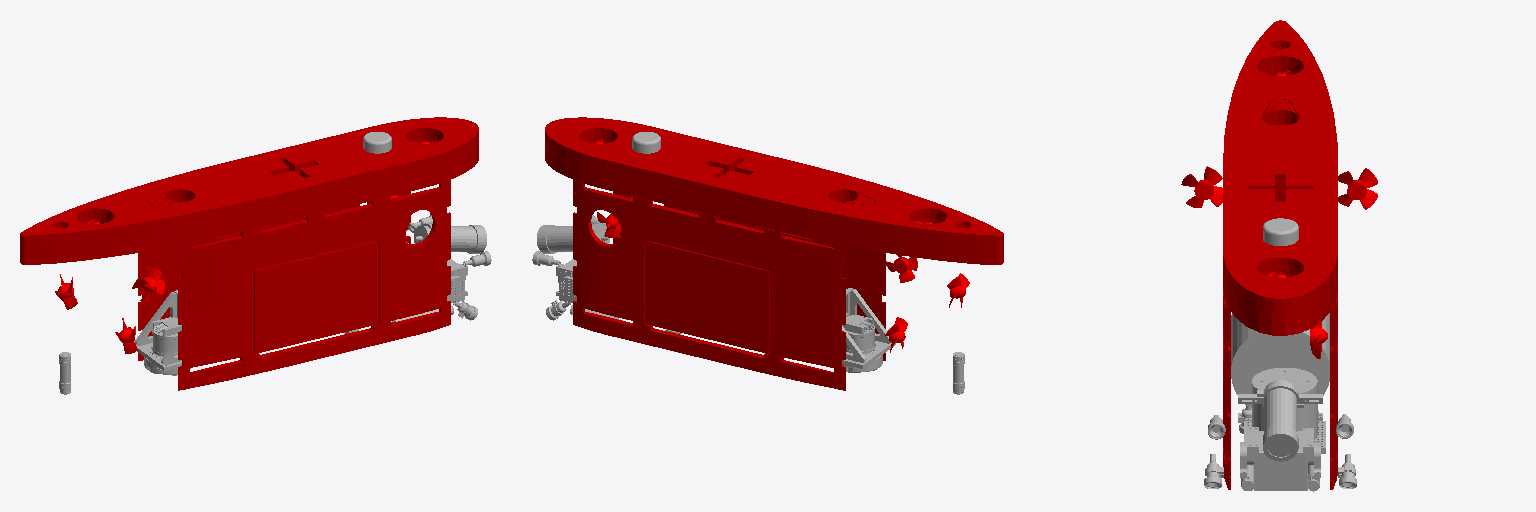
--- Facts derived from the render (not from the file) ---
3 views of the same robot in one strip: view 1: azimuth 30°, elevation 25°; view 2: azimuth 150°, elevation 25°; view 3: azimuth 270°, elevation 25° (orthographic).
Robot: blucy — 26 links, 25 joints (6 continuous, 19 fixed); root link base_link; default pose: all joints at 0.
Visible links, largest first — view 1: rightcover, topfoam, leftcover, dvl, pilot_camera, multibeam, propeller6, microstrain; view 2: leftcover, topfoam, rightcover, dvl, pilot_camera, multibeam, microstrain, propeller6; view 3: topfoam, battery, multibeam, pilot_camera, nikon_camera, leftcover, rightcover, propeller1, propeller2, microstrain.
Boxes of the visible links, bbox=[...] form: rightcover: bbox=[178, 180, 450, 390]; topfoam: bbox=[20, 117, 478, 264]; leftcover: bbox=[138, 192, 410, 360]; dvl: bbox=[135, 290, 190, 375]; pilot_camera: bbox=[408, 223, 486, 253]; multibeam: bbox=[447, 259, 467, 302]; propeller6: bbox=[132, 267, 164, 301]; microstrain: bbox=[363, 132, 391, 153]; leftcover: bbox=[573, 180, 845, 390]; topfoam: bbox=[545, 117, 1003, 264]; rightcover: bbox=[613, 192, 885, 360]; dvl: bbox=[842, 288, 895, 372]; pilot_camera: bbox=[537, 224, 609, 253]; multibeam: bbox=[556, 259, 576, 302]; microstrain: bbox=[632, 132, 660, 153]; propeller6: bbox=[885, 255, 917, 282]; topfoam: bbox=[1223, 20, 1337, 335]; battery: bbox=[1231, 313, 1329, 407]; multibeam: bbox=[1240, 427, 1320, 490]; pilot_camera: bbox=[1238, 380, 1322, 461]; nikon_camera: bbox=[1244, 368, 1325, 453]; leftcover: bbox=[1330, 294, 1337, 489]; rightcover: bbox=[1223, 290, 1230, 489]; propeller1: bbox=[1338, 168, 1377, 209]; propeller2: bbox=[1181, 166, 1222, 207]; microstrain: bbox=[1263, 218, 1298, 245].
Size in the robot's own frame: 2.03 by 0.5999 by 0.782 metres.
25 mesh visuals loaded from 26 distinct referenced files (25 binary STL); not drawn: 1 (reference not matched to a file when rendering).

robot.urdf — blucy:
<!--?xml version="1.0" encoding="utf-8"? -->
<!-- This URDF was automatically created by SolidWorks to URDF Exporter! Originally created by Stephen Brawner ([email redacted]) 
     Commit Version: 1.6.0-4-g7f85cfe  Build Version: 1.6.7995.38578
     For more information, please see http://wiki.ros.org/sw_urdf_exporter -->
<robot
  name="blucy">
  <material name="black">
    <color rgba="0.15 0.15 0.15 1"/>
  </material>
  <material name="red">
    <color rgba="1 0 0 1"/>
  </material>
  <material name="gray">
    <color rgba="0.75 0.75 0.75 1"/>
  </material>
  <material name="dark_red">
    <color rgba="0.8 0 0 1"/>
  </material>
  <!-- Links and Joints -->
  <!-- Base Link -->
  <link
    name="base_link">
    <inertial>
      <origin
        xyz="-0.078632 0.000641 0.07911"
        rpy="0 0 0" />
      <mass
        value="92.916038" />
      <inertia
        ixx="4.253521"
        ixy="-0.023251"
        ixz="0.07405"
        iyy="23.791254"
        iyz="0.0017"
        izz="21.41962" />
    </inertial>
    <visual>
      <origin
        xyz="0 0 0"
        rpy="0 0 0" />
      <geometry>
        <mesh
          filename="package://meshes/base_link.STL" />
      </geometry>
      <material
        name="black">
      </material>
    </visual>
    <collision>
      <origin
        xyz="0 0 0"
        rpy="0 0 0" />
      <geometry>
        <mesh
          filename="package://meshes/base_link.STL" />
      </geometry>
    </collision>
  </link>
  <gazebo reference="base_link">
    <material>Gazebo/DarkGrey</material>
  </gazebo>
  <link
    name="propeller1">
    <inertial>
      <origin
        xyz="-0.021949 -5E-06 4E-06"
        rpy="0 0 0" />
      <mass
        value="0.086465" />
      <inertia
        ixx="0.000107"
        ixy="0"
        ixz="0"
        iyy="6.5E-05"
        iyz="0"
        izz="6.5E-05" />
    </inertial>
    <visual>
      <origin
        xyz="0 0 0"
        rpy="0 0 0" />
      <geometry>
        <mesh
          filename="package://meshes/propeller1.STL" />
      </geometry>
      <material
        name="red">
      </material>
    </visual>
    <collision>
      <origin
        xyz="0 0 0"
        rpy="0 0 0" />
      <geometry>
        <mesh
          filename="package://meshes/propeller1.STL" />
      </geometry>
    </collision>
  </link>
  <gazebo reference="propeller1">
    <material>Gazebo/Red</material>
  </gazebo>
  <joint
    name="propeller1_joint"
    type="continuous">
    <origin
      xyz="-0.79491 0.23307 0.014352"
      rpy="0 0 0" />
    <parent
      link="base_link" />
    <child
      link="propeller1" />
    <axis
      xyz="-1 0 0" />
    <limit
      effort="0.76"
      velocity="314.16" />
    <dynamics
      damping="4.97E-06"
      friction="0.00386" />
  </joint>
  <link
    name="propeller2">
    <inertial>
      <origin
        xyz="-0.021949 3E-06 5E-06"
        rpy="0 0 0" />
      <mass
        value="0.086465" />
      <inertia
        ixx="0.000107"
        ixy="0"
        ixz="0"
        iyy="6.5E-05"
        iyz="0"
        izz="6.5E-05" />
    </inertial>
    <visual>
      <origin
        xyz="0 0 0"
        rpy="0 0 0" />
      <geometry>
        <mesh
          filename="package://meshes/propeller2.STL" />
      </geometry>
      <material
        name="red">
      </material>
    </visual>
    <collision>
      <origin
        xyz="0 0 0"
        rpy="0 0 0" />
      <geometry>
        <mesh
          filename="package://meshes/propeller2.STL" />
      </geometry>
    </collision>
  </link>
  <gazebo reference="propeller2">
    <material>Gazebo/Red</material>
  </gazebo>
  <joint
    name="propeller2_joint"
    type="continuous">
    <origin
      xyz="-0.79491 -0.23193 0.014352"
      rpy="0 0 0" />
    <parent
      link="base_link" />
    <child
      link="propeller2" />
    <axis
      xyz="-1 0 0" />
    <limit
      effort="0.76"
      velocity="314.16" />
    <dynamics
      damping="4.97E-06"
      friction="0.00386" />
  </joint>
  <link
    name="propeller3">
    <inertial>
      <origin
        xyz="-4E-06 5E-06 0.021949"
        rpy="0 0 0" />
      <mass
        value="0.086465" />
      <inertia
        ixx="6.5E-05"
        ixy="0"
        ixz="0"
        iyy="6.5E-05"
        iyz="0"
        izz="0.000107" />
    </inertial>
    <visual>
      <origin
        xyz="0 0 0"
        rpy="0 0 0" />
      <geometry>
        <mesh
          filename="package://meshes/propeller3.STL" />
      </geometry>
      <material
        name="red">
      </material>
    </visual>
    <collision>
      <origin
        xyz="0 0 0"
        rpy="0 0 0" />
      <geometry>
        <mesh
          filename="package://meshes/propeller3.STL" />
      </geometry>
    </collision>
  </link>
  <gazebo reference="propeller3">
    <material>Gazebo/Red</material>
  </gazebo>
  <joint
    name="propeller3_joint"
    type="continuous">
    <origin
      xyz="0.63209 0.00057381 0.34835"
      rpy="0 0 0" />
    <parent
      link="base_link" />
    <child
      link="propeller3" />
    <axis
      xyz="0 0 -1" />
    <limit
      effort="0.76"
      velocity="314.16" />
    <dynamics
      damping="4.97E-06"
      friction="0.00386" />
  </joint>
  <link
    name="propeller4">
    <inertial>
      <origin
        xyz="-6E-06 0 0.021949"
        rpy="0 0 0" />
      <mass
        value="0.086565" />
      <inertia
        ixx="6.5E-05"
        ixy="0"
        ixz="0"
        iyy="6.5E-05"
        iyz="0"
        izz="0.000107" />
    </inertial>
    <visual>
      <origin
        xyz="0 0 0"
        rpy="0 0 0" />
      <geometry>
        <mesh
          filename="package://meshes/propeller4.STL" />
      </geometry>
      <material name="red">
      </material>
    </visual>
    <collision>
      <origin
        xyz="0 0 0"
        rpy="0 0 0" />
      <geometry>
        <mesh
          filename="package://meshes/propeller4.STL" />
      </geometry>
    </collision>
  </link>
  <gazebo reference="propeller4">
    <material>Gazebo/Red</material>
  </gazebo>
  <joint
    name="propeller4_joint"
    type="continuous">
    <origin
      xyz="-0.81791 0.00057381 0.34835"
      rpy="0 0 0" />
    <parent
      link="base_link" />
    <child
      link="propeller4" />
    <axis
      xyz="0 0 -1" />
    <limit
      effort="0.76"
      velocity="314.16" />
    <dynamics
      damping="4.97E-06"
      friction="0.00386" />
  </joint>
  <link
    name="propeller5">
    <inertial>
      <origin
        xyz="-6E-06 0.021949 0"
        rpy="0 0 0" />
      <mass
        value="0.086465" />
      <inertia
        ixx="6.5E-05"
        ixy="0"
        ixz="0"
        iyy="0.000107"
        iyz="0"
        izz="6.5E-05" />
    </inertial>
    <visual>
      <origin
        xyz="0 0 0"
        rpy="0 0 0" />
      <geometry>
        <mesh
          filename="package://meshes/propeller5.STL" />
      </geometry>
      <material 
        name="red">
      </material>
    </visual>
    <collision>
      <origin
        xyz="0 0 0"
        rpy="0 0 0" />
      <geometry>
        <mesh
          filename="package://meshes/propeller5.STL" />
      </geometry>
    </collision>
  </link>
  <gazebo reference="propeller5">
    <material>Gazebo/Red</material>
  </gazebo>
  <joint
    name="propeller5_joint"
    type="continuous">
    <origin
      xyz="0.50759 0.090574 0.13635"
      rpy="0 0 0" />
    <parent
      link="base_link" />
    <child
      link="propeller5" />
    <axis
      xyz="0 -1 0" />
    <limit
      effort="0.76"
      velocity="314.16" />
    <dynamics
      damping="4.97E-06"
      friction="0.00386" />
  </joint>
  <link
    name="propeller6">
    <inertial>
      <origin
        xyz="6E-06 -0.021949 -3E-06"
        rpy="0 0 0" />
      <mass
        value="0.086465" />
      <inertia
        ixx="6.5E-05"
        ixy="0"
        ixz="0"
        iyy="0.000107"
        iyz="0"
        izz="6.5E-05" />
    </inertial>
    <visual>
      <origin
        xyz="0 0 0"
        rpy="0 0 0" />
      <geometry>
        <mesh
          filename="package://meshes/propeller6.STL" />
      </geometry>
      <material
        name="red">
      </material>
    </visual>
    <collision>
      <origin
        xyz="0 0 0"
        rpy="0 0 0" />
      <geometry>
        <mesh
          filename="package://meshes/propeller6.STL" />
      </geometry>
    </collision>
  </link>
  <gazebo reference="propeller6">
    <material>Gazebo/Red</material>
  </gazebo>
  <joint
    name="propeller6_joint"
    type="continuous">
    <origin
      xyz="-0.64241 -0.089426 0.13635"
      rpy="0 0 0" />
    <parent
      link="base_link" />
    <child
      link="propeller6" />
    <axis
      xyz="0 1 0" />
    <limit
      effort="0.76"
      velocity="314.16" />
    <dynamics
      damping="4.97E-06"
      friction="0.00386" />
  </joint>
  <link
    name="multibeam">
    <inertial>
      <origin
        xyz="0.001883 -3E-06 0.069564"
        rpy="0 0 0" />
      <mass
        value="5.0226" />
      <inertia
        ixx="0.023532"
        ixy="-3E-06"
        ixz="-8.3E-05"
        iyy="0.016469"
        iyz="2.2E-05"
        izz="0.02491" />
    </inertial>
    <visual>
      <origin
        xyz="0 0 0"
        rpy="0 0 0" />
      <geometry>
        <mesh
          filename="package://meshes/multibeam.STL" />
      </geometry>
      <material name="gray"/>
    </visual>
    <collision>
      <origin
        xyz="0 0 0"
        rpy="0 0 0" />
      <geometry>
        <mesh
          filename="package://meshes/multibeam.STL" />
      </geometry>
    </collision>
  </link>
  <joint
    name="multibeam_joint"
    type="fixed">
    <origin
      xyz="0.68799 0.00066019 -0.26331"
      rpy="0 0 0" />
    <parent
      link="base_link" />
    <child
      link="multibeam" />
    <axis
      xyz="0 0 0" />
  </joint>
  <link
    name="nikon_camera">
    <inertial>
      <origin
        xyz="0 0 0.10988"
        rpy="0 0 0" />
      <mass
        value="12.782" />
      <inertia
        ixx="0.13023"
        ixy="0"
        ixz="0"
        iyy="0.1289"
        iyz="0"
        izz="0.083075" />
    </inertial>
    <visual>
      <origin
        xyz="0 0 0"
        rpy="0 0 0" />
      <geometry>
        <mesh
          filename="package://meshes/nikon_camera.STL" />
      </geometry>
      <material
        name="gray">
      </material>
    </visual>
    <collision>
      <origin
        xyz="0 0 0"
        rpy="0 0 0" />
      <geometry>
        <mesh
          filename="package://meshes/nikon_camera.STL" />
      </geometry>
    </collision>
  </link>
  <joint
    name="nikon_camera_joint"
    type="fixed">
    <origin
      xyz="0.48259 0.013074 -0.25065"
      rpy="0 0 0" />
    <parent
      link="base_link" />
    <child
      link="nikon_camera" />
    <axis
      xyz="0 0 0" />
  </joint>
  <link
    name="dvl">
    <inertial>
      <origin
        xyz="0.01692 -0.006011 0.095644"
        rpy="0 0 0" />
      <mass
        value="4.8765" />
      <inertia
        ixx="0.034745"
        ixy="1.1E-05"
        ixz="-0.005105"
        iyy="0.031422"
        iyz="6E-06"
        izz="0.029824" />
    </inertial>
    <visual>
      <origin
        xyz="0 0 0"
        rpy="0 0 0" />
      <geometry>
        <mesh
          filename="package://meshes/dvl.STL" />
      </geometry>
      <material
        name="gray">
      </material>
    </visual>
    <collision>
      <origin
        xyz="0 0 0"
        rpy="0 0 0" />
      <geometry>
        <mesh
          filename="package://meshes/dvl.STL" />
      </geometry>
    </collision>
  </link>
  <joint
    name="dvl_joint"
    type="fixed">
    <origin
      xyz="-0.50942 -0.0059041 -0.29765"
      rpy="0 0 0" />
    <parent
      link="base_link" />
    <child
      link="dvl" />
    <axis
      xyz="0 0 0" />
  </joint>
  <link
    name="fog">
    <inertial>
      <origin
        xyz="-0.091544 3.6E-05 3.6E-05"
        rpy="0 0 0" />
      <mass
        value="12.63" />
      <inertia
        ixx="0.083754"
        ixy="4.4E-05"
        ixz="4.4E-05"
        iyy="0.12"
        iyz="-2.4E-05"
        izz="0.12" />
    </inertial>
    <visual>
      <origin
        xyz="0 0 0"
        rpy="0 0 0" />
      <geometry>
        <mesh
          filename="package://meshes/fog.STL" />
      </geometry>
      <material
        name="gray">
      </material>
    </visual>
    <collision>
      <origin
        xyz="0 0 0"
        rpy="0 0 0" />
      <geometry>
        <mesh
          filename="package://meshes/fog.STL" />
      </geometry>
    </collision>
  </link>
  <joint
    name="fog_joint"
    type="fixed">
    <origin
      xyz="-0.20191 -0.011926 -0.12565"
      rpy="0 0 0" />
    <parent
      link="base_link" />
    <child
      link="fog" />
    <axis
      xyz="0 0 0" />
  </joint>
  <link
    name="altimeter">
    <inertial>
      <origin
        xyz="0 1E-06 0.002977"
        rpy="0 0 0" />
      <mass
        value="1.15" />
      <inertia
        ixx="0.000157"
        ixy="0"
        ixz="0"
        iyy="0.000157"
        iyz="0"
        izz="0.000308" />
    </inertial>
    <visual>
      <origin
        xyz="0 0 0"
        rpy="0 0 0" />
      <geometry>
        <mesh
          filename="package://meshes/altimeter.STL" />
      </geometry>
      <material
        name="gray">
      </material>
    </visual>
    <collision>
      <origin
        xyz="0 0 0"
        rpy="0 0 0" />
      <geometry>
        <mesh
          filename="package://meshes/altimeter.STL" />
      </geometry>
    </collision>
  </link>
  <joint
    name="altimeter_joint"
    type="fixed">
    <origin
      xyz="-0.95191 0.00057254 -0.28565"
      rpy="0 0 0" />
    <parent
      link="base_link" />
    <child
      link="altimeter" />
    <axis
      xyz="0 0 0" />
  </joint>
  <link
    name="mini_ct">
    <inertial>
      <origin
        xyz="-0.12053 -0.000149 -2E-06"
        rpy="0 0 0" />
      <mass
        value="0.6" />
      <inertia
        ixx="4.5E-05"
        ixy="-2E-06"
        ixz="0"
        iyy="0.001189"
        iyz="0"
        izz="0.001189" />
    </inertial>
    <visual>
      <origin
        xyz="0 0 0"
        rpy="0 0 0" />
      <geometry>
        <mesh
          filename="package://meshes/mini_ct.STL" />
      </geometry>
      <material
        name="gray">
      </material>
    </visual>
    <collision>
      <origin
        xyz="0 0 0"
        rpy="0 0 0" />
      <geometry>
        <mesh
          filename="package://meshes/mini_ct.STL" />
      </geometry>
    </collision>
  </link>
  <joint
    name="mini_ct_joint"
    type="fixed">
    <origin
      xyz="0.69259 -0.099426 -0.28065"
      rpy="0 0 0" />
    <parent
      link="base_link" />
    <child
      link="mini_ct" />
    <axis
      xyz="0 0 0" />
  </joint>
  <link
    name="mini_svs">
    <inertial>
      <origin
        xyz="0 0 0"
        rpy="0 0 0" />
      <mass
        value="0" />
      <inertia
        ixx="0"
        ixy="0"
        ixz="0"
        iyy="0"
        iyz="0"
        izz="0" />
    </inertial>
    <visual>
      <origin
        xyz="0 0 0"
        rpy="0 0 0" />
      <geometry>
        <mesh
          filename="package://meshes/mini_svs.STL" />
      </geometry>
      <material
        name="gray">
      </material>
    </visual>
    <collision>
      <origin
        xyz="0 0 0"
        rpy="0 0 0" />
      <geometry>
        <mesh
          filename="package://meshes/mini_svs.STL" />
      </geometry>
    </collision>
  </link>
  <joint
    name="mini_svs_joint"
    type="fixed">
    <origin
      xyz="0.69259 0.10057 -0.28065"
      rpy="0 0 0" />
    <parent
      link="base_link" />
    <child
      link="mini_svs" />
    <axis
      xyz="0 0 0" />
  </joint>
  <link
    name="pilot_camera">
    <inertial>
      <origin
        xyz="-0.12657 0 0.031558"
        rpy="0 0 0" />
      <mass
        value="1.8034" />
      <inertia
        ixx="0.004493"
        ixy="3E-06"
        ixz="0.003387"
        iyy="0.017565"
        iyz="1.1E-05"
        izz="0.017565" />
    </inertial>
    <visual>
      <origin
        xyz="0 0 0"
        rpy="0 0 0" />
      <geometry>
        <mesh
          filename="package://meshes/pilot_camera.STL" />
      </geometry>
      <material
        name="gray">
      </material>
    </visual>
    <collision>
      <origin
        xyz="0 0 0"
        rpy="0 0 0" />
      <geometry>
        <mesh
          filename="package://meshes/pilot_camera.STL" />
      </geometry>
    </collision>
  </link>
  <joint
    name="pilot_camera_joint"
    type="fixed">
    <origin
      xyz="0.873590710689131 0.00057381212163215 -0.0676203468725755"
      rpy="0 0 0" />
    <parent
      link="base_link" />
    <child
      link="pilot_camera" />
    <axis
      xyz="0 0 0" />
  </joint>
  <link
    name="microstrain">
    <inertial>
      <origin
        xyz="0 0 -0.049475"
        rpy="0 0 0" />
      <mass
        value="0.9" />
      <inertia
        ixx="0.001778"
        ixy="0"
        ixz="0"
        iyy="0.001778"
        iyz="0"
        izz="0.001735" />
    </inertial>
    <visual>
      <origin
        xyz="0 0 0"
        rpy="0 0 0" />
      <geometry>
        <mesh
          filename="package://meshes/microstrain.STL" />
      </geometry>
      <material
        name="gray">
      </material>
    </visual>
    <collision>
      <origin
        xyz="0 0 0"
        rpy="0 0 0" />
      <geometry>
        <mesh
          filename="package://meshes/microstrain.STL" />
      </geometry>
    </collision>
  </link>
  <joint
    name="microstrain_joint"
    type="fixed">
    <origin
      xyz="0.42359 0.00057381 0.47035"
      rpy="0 0 0" />
    <parent
      link="base_link" />
    <child
      link="microstrain" />
    <axis
      xyz="0 0 0" />
  </joint>
  <link
    name="led1">
    <inertial>
      <origin
        xyz="-0.020793 0 0"
        rpy="0 0 0" />
      <mass
        value="0.76684" />
      <inertia
        ixx="0.000208"
        ixy="0"
        ixz="0"
        iyy="0.000469"
        iyz="0"
        izz="0.000469" />
    </inertial>
    <visual>
      <origin
        xyz="0 0 0"
        rpy="0 0 0" />
      <geometry>
        <mesh
          filename="package://meshes/led1.STL" />
      </geometry>
      <material
        name="gray">
      </material>
    </visual>
    <collision>
      <origin
        xyz="0 0 0"
        rpy="0 0 0" />
      <geometry>
        <mesh
          filename="package://meshes/led1.STL" />
      </geometry>
    </collision>
  </link>
  <joint
    name="led1_joint"
    type="fixed">
    <origin
      xyz="0.78101 0.19575 -0.047148"
      rpy="0 0 0" />
    <parent
      link="base_link" />
    <child
      link="led1" />
    <axis
      xyz="0 0 0" />
  </joint>
  <link
    name="led2">
    <inertial>
      <origin
        xyz="-0.020793 0 0.020793"
        rpy="0 0 0" />
      <mass
        value="0.76684" />
      <inertia
        ixx="0.000208"
        ixy="0"
        ixz="0"
        iyy="0.000469"
        iyz="0"
        izz="0.000469" />
    </inertial>
    <visual>
      <origin
        xyz="0 0 0"
        rpy="0 0 0" />
      <geometry>
        <mesh
          filename="package://meshes/led2.STL" />
      </geometry>
      <material
        name="gray">
      </material>
    </visual>
    <collision>
      <origin
        xyz="0 0 0"
        rpy="0 0 0" />
      <geometry>
        <mesh
          filename="package://meshes/led2.STL" />
      </geometry>
    </collision>
  </link>
  <joint
    name="led2_joint"
    type="fixed">
    <origin
      xyz="0.78101 -0.1946 -0.049148"
      rpy="0 0 0" />
    <parent
      link="base_link" />
    <child
      link="led2" />
    <axis
      xyz="0 0 0" />
  </joint>
  <link
    name="led3">
    <inertial>
      <origin
        xyz="-0.015983 -0.000173 0.013496"
        rpy="0 0 0" />
      <mass
        value="0.78149" />
      <inertia
        ixx="0.000325"
        ixy="-1E-06"
        ixz="0.000127"
        iyy="0.000475"
        iyz="1E-06"
        izz="0.000369" />
    </inertial>
    <visual>
      <origin
        xyz="0 0 0"
        rpy="0 0 0" />
      <geometry>
        <mesh
          filename="package://meshes/led3.STL" />
      </geometry>
      <material
        name="gray">
      </material>
    </visual>
    <collision>
      <origin
        xyz="0 0 0"
        rpy="0 0 0" />
      <geometry>
        <mesh
          filename="package://meshes/led3.STL" />
      </geometry>
    </collision>
  </link>
  <joint
    name="led3_joint"
    type="fixed">
    <origin
      xyz="0.71265 0.2062 -0.25332"
      rpy="0 0 0" />
    <parent
      link="base_link" />
    <child
      link="led3" />
    <axis
      xyz="0 0 0" />
  </joint>
  <link
    name="led4">
    <inertial>
      <origin
        xyz="-0.016067 0.000173 0.013397"
        rpy="0 0 0" />
      <mass
        value="0.78149" />
      <inertia
        ixx="0.000325"
        ixy="1E-06"
        ixz="0.000127"
        iyy="0.000475"
        iyz="-1E-06"
        izz="0.000369" />
    </inertial>
    <visual>
      <origin
        xyz="0 0 0"
        rpy="0 0 0" />
      <geometry>
        <mesh
          filename="package://meshes/led4.STL" />
      </geometry>
      <material
        name="gray">
      </material>
    </visual>
    <collision>
      <origin
        xyz="0 0 0"
        rpy="0 0 0" />
      <geometry>
        <mesh
          filename="package://meshes/led4.STL" />
      </geometry>
    </collision>
  </link>
  <joint
    name="led4_joint"
    type="fixed">
    <origin
      xyz="0.71265 -0.20505 -0.25332"
      rpy="0 0 0" />
    <parent
      link="base_link" />
    <child
      link="led4" />
    <axis
      xyz="0 0 0" />
  </joint>
  <link
    name="bled1">
    <inertial>
      <origin
        xyz="-6.5E-05 0.000173 0.020919"
        rpy="0 0 0" />
      <mass
        value="0.78149" />
      <inertia
        ixx="0.000476"
        ixy="0"
        ixz="0"
        iyy="0.000475"
        iyz="-1E-06"
        izz="0.000219" />
    </inertial>
    <visual>
      <origin
        xyz="0 0 0"
        rpy="0 0 0" />
      <geometry>
        <mesh
          filename="package://meshes/bled1.STL" />
      </geometry>
      <material
        name="gray">
      </material>
    </visual>
    <collision>
      <origin
        xyz="0 0 0"
        rpy="0 0 0" />
      <geometry>
        <mesh
          filename="package://meshes/bled1.STL" />
      </geometry>
    </collision>
  </link>
  <joint
    name="bled1_joint"
    type="fixed">
    <origin
      xyz="0.24509 0.098574 -0.28815"
      rpy="0 0 0" />
    <parent
      link="base_link" />
    <child
      link="bled1" />
    <axis
      xyz="0 0 0" />
  </joint>
  <link
    name="bled2">
    <inertial>
      <origin
        xyz="6.5E-05 -0.000173 0.020919"
        rpy="0 0 0" />
      <mass
        value="0.78149" />
      <inertia
        ixx="0.000476"
        ixy="0"
        ixz="0"
        iyy="0.000475"
        iyz="1E-06"
        izz="0.000219" />
    </inertial>
    <visual>
      <origin
        xyz="0 0 0"
        rpy="0 0 0" />
      <geometry>
        <mesh
          filename="package://meshes/bled2.STL" />
      </geometry>
      <material
        name="gray">
      </material>
    </visual>
    <collision>
      <origin
        xyz="0 0 0"
        rpy="0 0 0" />
      <geometry>
        <mesh
          filename="package://meshes/bled2.STL" />
      </geometry>
    </collision>
  </link>
  <joint
    name="bled2_joint"
    type="fixed">
    <origin
      xyz="0.24509 -0.097426 -0.28815"
      rpy="0 0 0" />
    <parent
      link="base_link" />
    <child
      link="bled2" />
    <axis
      xyz="0 0 0" />
  </joint>
  <link
    name="leftcover">
    <inertial>
      <origin
        xyz="-0.099372 -0.013309 0.000491"
        rpy="0 0 0" />
      <mass
        value="3.6386" />
      <inertia
        ixx="0.10618"
        ixy="-0.000723"
        ixz="0.007023"
        iyy="0.4638"
        iyz="5.3E-05"
        izz="0.35797" />
    </inertial>
    <visual>
      <origin
        xyz="0 0 0"
        rpy="0 0 0" />
      <geometry>
        <mesh
          filename="package://meshes/leftcover.STL" />
      </geometry>
      <material
        name="dark_red">
      </material>
    </visual>
    <collision>
      <origin
        xyz="0 0 0"
        rpy="0 0 0" />
      <geometry>
        <mesh
          filename="package://meshes/leftcover.STL" />
      </geometry>
    </collision>
  </link>
  <gazebo reference="leftcover">
    <material>Gazebo/Red</material>
  </gazebo>
  <joint
    name="leftcover_joint"
    type="fixed">
    <origin
      xyz="0.17515 0.17557 -0.011585"
      rpy="0 0 0" />
    <parent
      link="base_link" />
    <child
      link="leftcover" />
    <axis
      xyz="0 0 0" />
  </joint>
  <link
    name="rightcover">
    <inertial>
      <origin
        xyz="-0.099367 0.013309 0.000492"
        rpy="0 0 0" />
      <mass
        value="3.6386" />
      <inertia
        ixx="0.10618"
        ixy="0.000723"
        ixz="0.007021"
        iyy="0.4638"
        iyz="-5.3E-05"
        izz="0.46381" />
    </inertial>
    <visual>
      <origin
        xyz="0 0 0"
        rpy="0 0 0" />
      <geometry>
        <mesh
          filename="package://meshes/rightcover.STL" />
      </geometry>
      <material
        name="dark_red">
      </material>
    </visual>
    <collision>
      <origin
        xyz="0 0 0"
        rpy="0 0 0" />
      <geometry>
        <mesh
          filename="package://meshes/rightcover.STL" />
      </geometry>
    </collision>
  </link>
  <gazebo reference="rightcover">
    <material>Gazebo/Red</material>
  </gazebo>
  <joint
    name="rightcover_joint"
    type="fixed">
    <origin
      xyz="0.17515 -0.17443 -0.011585"
      rpy="0 0 0" />
    <parent
      link="base_link" />
    <child
      link="rightcover" />
    <axis
      xyz="0 0 0" />
  </joint>
  <link
    name="topfoam">
    <inertial>
      <origin
        xyz="-0.010983 1E-06 -0.012707"
        rpy="0 0 0" />
      <mass
        value="16.286" />
      <inertia
        ixx="0.17331"
        ixy="1E-06"
        ixz="0.001457"
        iyy="4.018"
        iyz="0"
        izz="4.1493" />
    </inertial>
    <visual>
      <origin
        xyz="0 0 0"
        rpy="0 0 0" />
      <geometry>
        <mesh
          filename="package://meshes/topfoam.STL" />
      </geometry>
      <material
        name="dark_red">
      </material>
    </visual>
    <collision>
      <origin
        xyz="0 0 0"
        rpy="0 0 0" />
      <geometry>
        <mesh
          filename="package://meshes/topfoam.STL" />
      </geometry>
    </collision>
  </link>
  <gazebo reference="topfoam">
    <material>Gazebo/Red</material>
  </gazebo>
  <joint
    name="topfoam_joint"
    type="fixed">
    <origin
      xyz="-0.04631 0.00057242 0.37435"
      rpy="0 0 0" />
    <parent
      link="base_link" />
    <child
      link="topfoam" />
    <axis
      xyz="0 0 0" />
  </joint>
  <link
    name="battery">
    <inertial>
      <origin
        xyz="-0.00371 -0.000236 -0.000195"
        rpy="0 0 0" />
      <mass
        value="52" />
      <inertia
        ixx="0.84864"
        ixy="0.00036"
        ixz="-0.000176"
        iyy="1.6164"
        iyz="-0.000678"
        izz="1.6168" />
    </inertial>
    <visual>
      <origin
        xyz="0 0 0"
        rpy="0 0 0" />
      <geometry>
        <mesh
          filename="package://meshes/battery.STL" />
      </geometry>
      <material
        name="gray">
      </material>
    </visual>
    <collision>
      <origin
        xyz="0 0 0"
        rpy="0 0 0" />
      <geometry>
        <mesh
          filename="package://meshes/battery.STL" />
      </geometry>
    </collision>
  </link>
  <joint
    name="battery_joint"
    type="fixed">
    <origin
      xyz="0.016985 0.00072413 -0.13155"
      rpy="0 0 0" />
    <parent
      link="base_link" />
    <child
      link="battery" />
    <axis
      xyz="0 0 0" />
  </joint>
</robot>
